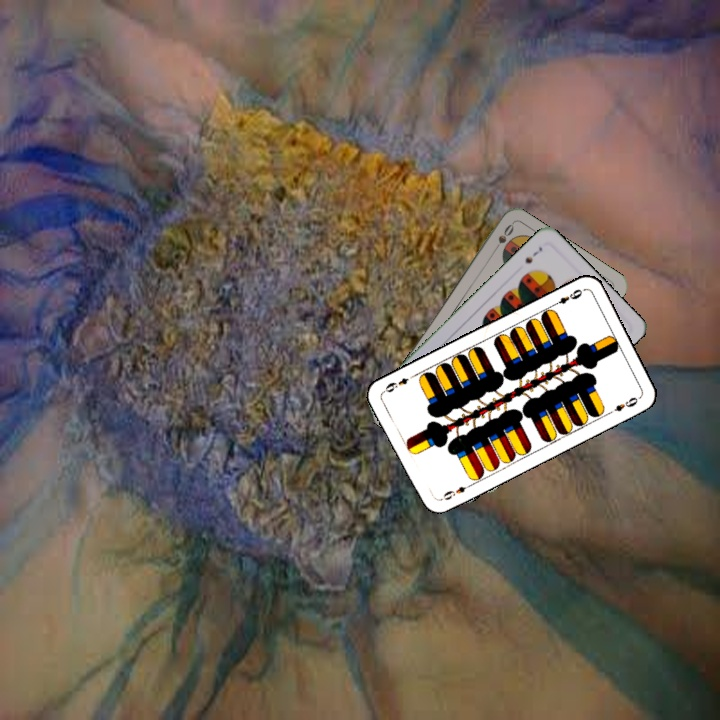E9: (548, 285, 586, 309), (436, 480, 474, 503)
S7: (521, 242, 545, 266)
SO: (488, 220, 517, 256)
